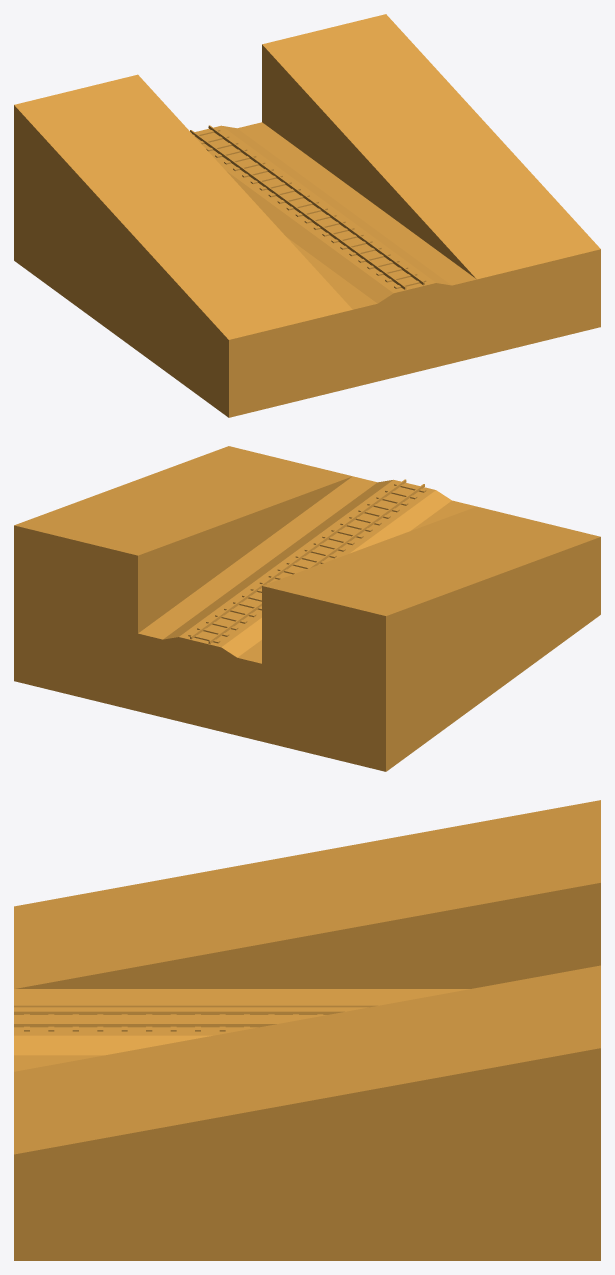
The model's file is tile-rail-tunnel-entrance.glb.
3 renders of one model, top to bottom at view 1: azimuth 30°, elevation 25°; view 2: azimuth 150°, elevation 25°; view 3: azimuth 270°, elevation 25°, orthographic. The views are drawn at different scales.
Parts seen in each view (by area): view 1: tile-rail-tunnel-entrance; view 2: tile-rail-tunnel-entrance; view 3: tile-rail-tunnel-entrance.
Part boxes in pixels (left/top/right/bottom): tile-rail-tunnel-entrance: left=14, top=14, right=600, bottom=417; tile-rail-tunnel-entrance: left=14, top=446, right=600, bottom=771; tile-rail-tunnel-entrance: left=14, top=800, right=600, bottom=1260.
Bounding box in the file's own units: 30 × 12 × 30.
